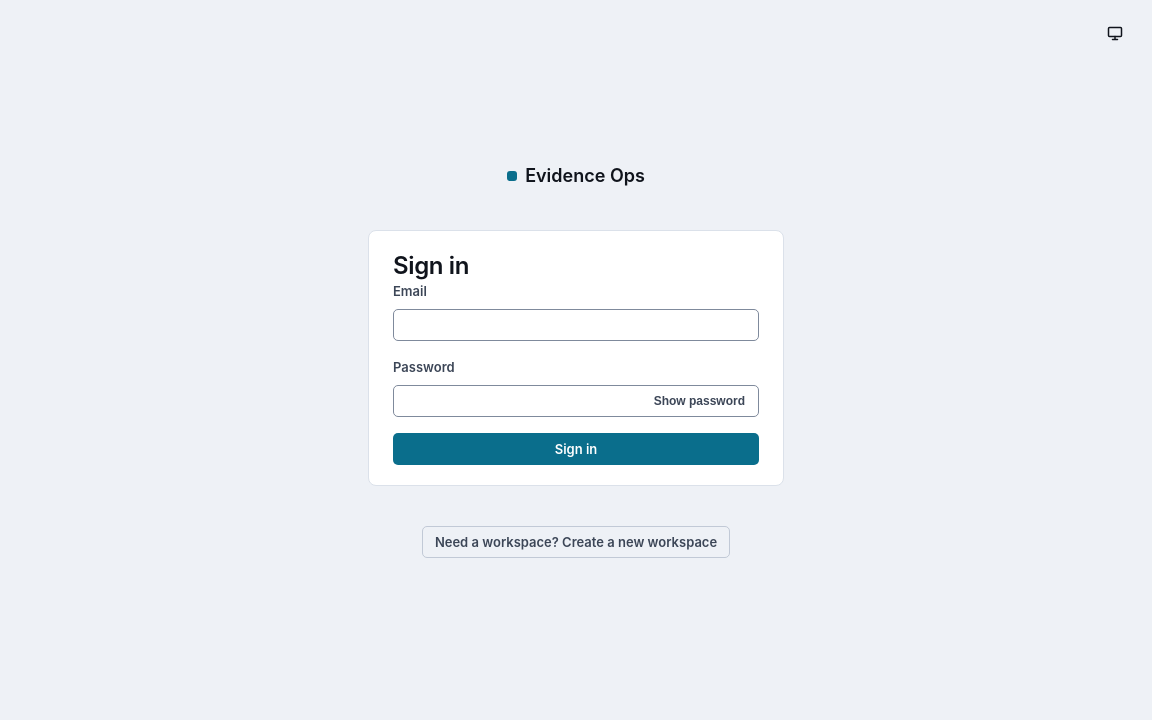
App / shell › shows admin links after a client-side login without a reload
The width and height of the screenshot is (1152, 720).
Expected: the heading "Sign in" is shown, [393,251,469,280]
Type "admin@example.com" into the field labelled "Email" at (576, 325), box [393,309,759,341]
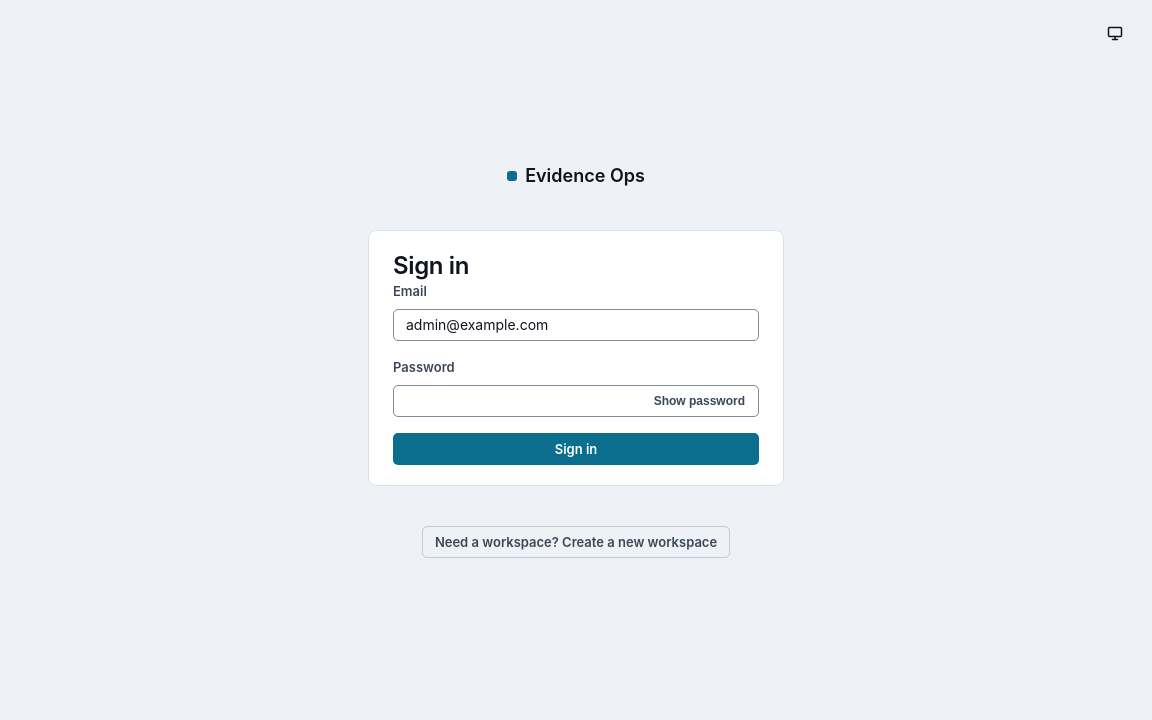
Type "correct-password" into the password field labelled "Password" at (576, 401), box [393,385,759,417]
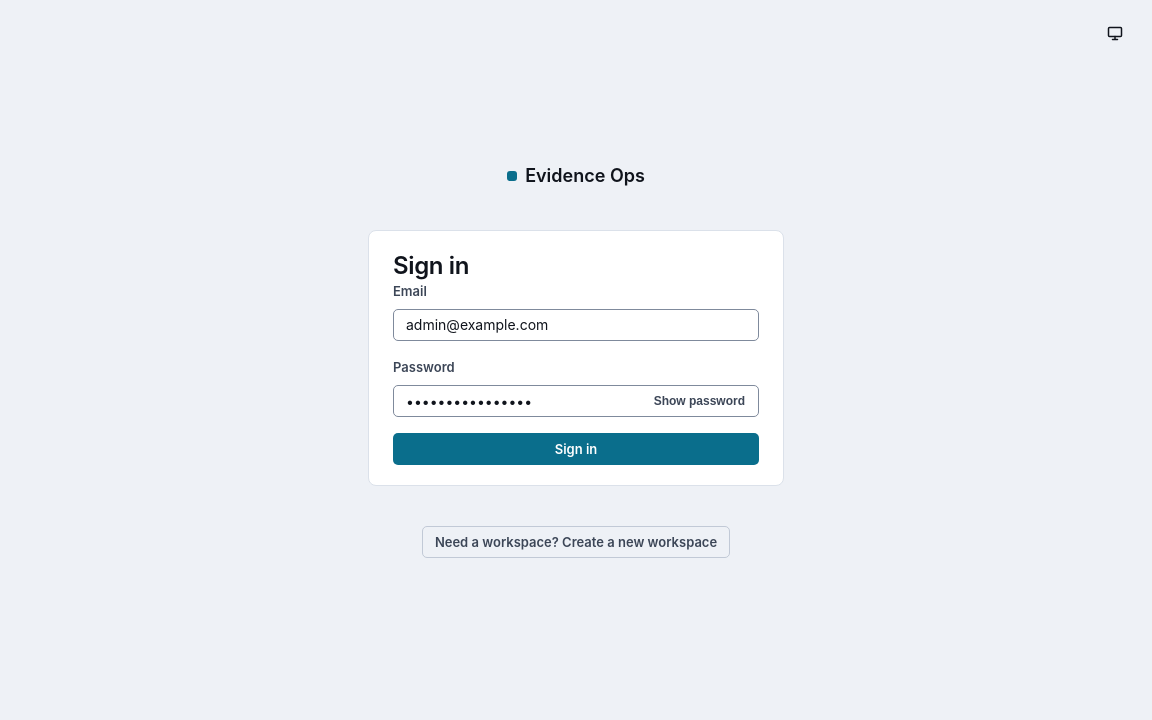
Click the button "Sign in" at (576, 449), box [393,433,759,465]
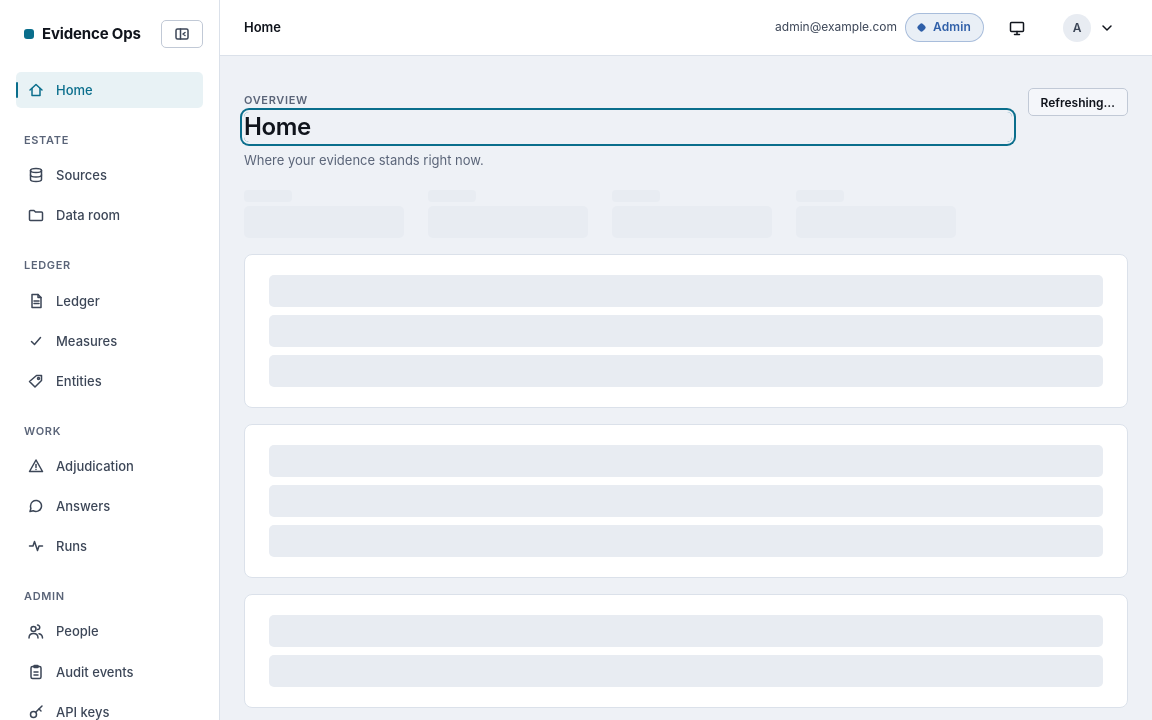
Expected: the link "Audit events" is shown, [28,664,134,680]
